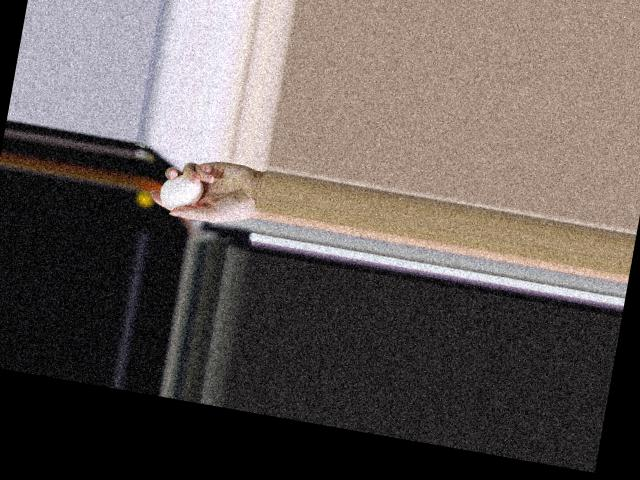egg: (157, 171, 204, 212)
